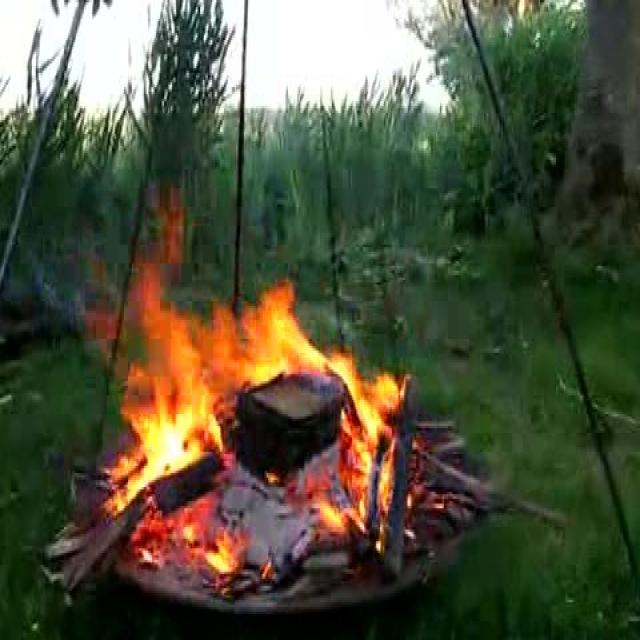fire: (117, 250, 415, 563)
